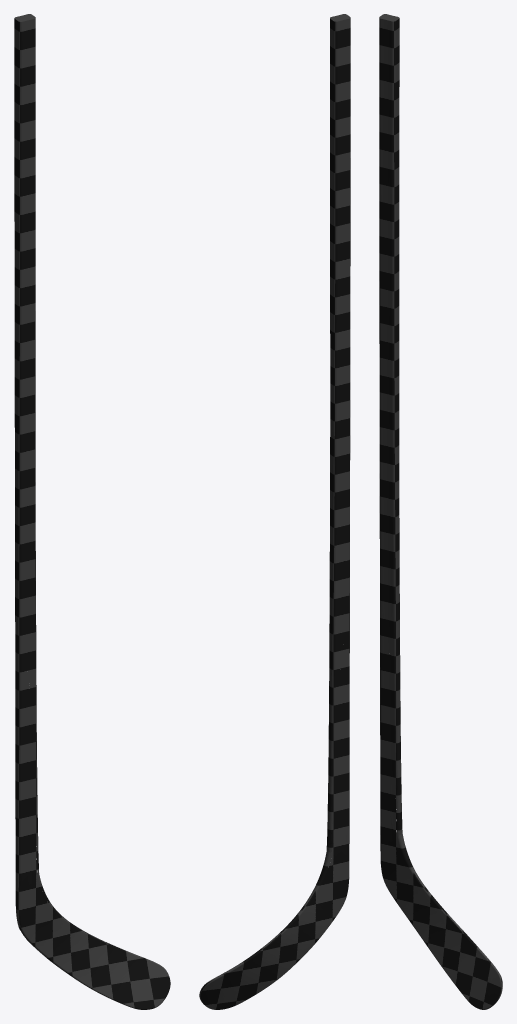
The model's file is P92-SBT.glb.
3 renders of one model, left to right at view 1: azimuth 30°, elevation 25°; view 2: azimuth 210°, elevation 25°; view 3: azimuth 330°, elevation 25°, orthographic. The views are drawn at different scales.
Parts seen in each view (by area): view 1: geometry_0; view 2: geometry_0; view 3: geometry_0.
Part boxes in pixels (left/top/right/bottom): geometry_0: left=14, top=14, right=170, bottom=1009; geometry_0: left=199, top=14, right=350, bottom=1009; geometry_0: left=379, top=14, right=502, bottom=1009.
Size of the model in its own units: 241 by 1650 by 57.34.
1 material, 1 textured.
